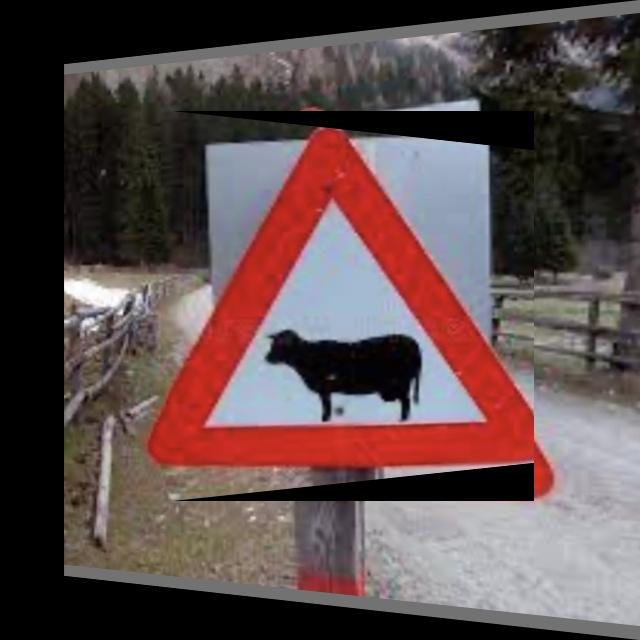Cattle: (172, 111, 534, 501)
